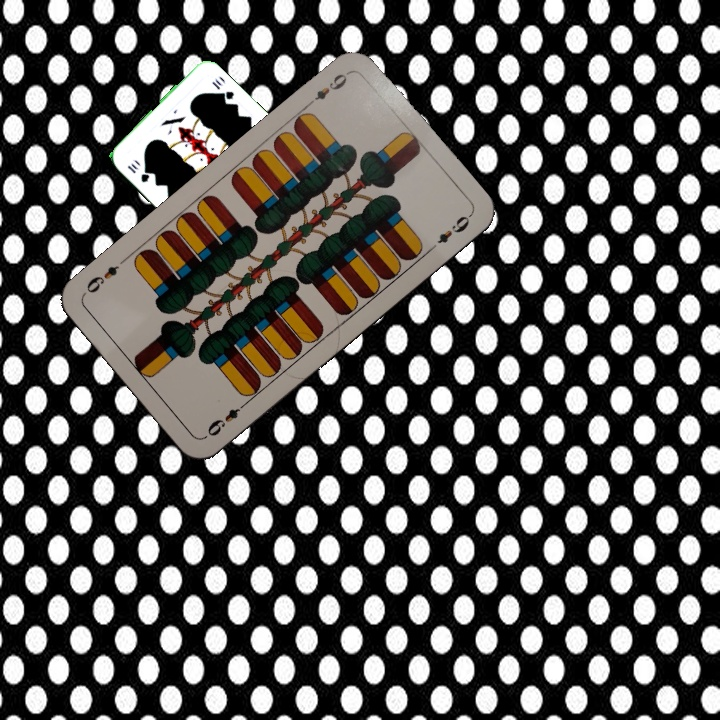E9: (201, 397, 250, 440), (304, 67, 353, 109)
G10: (123, 158, 152, 185)
